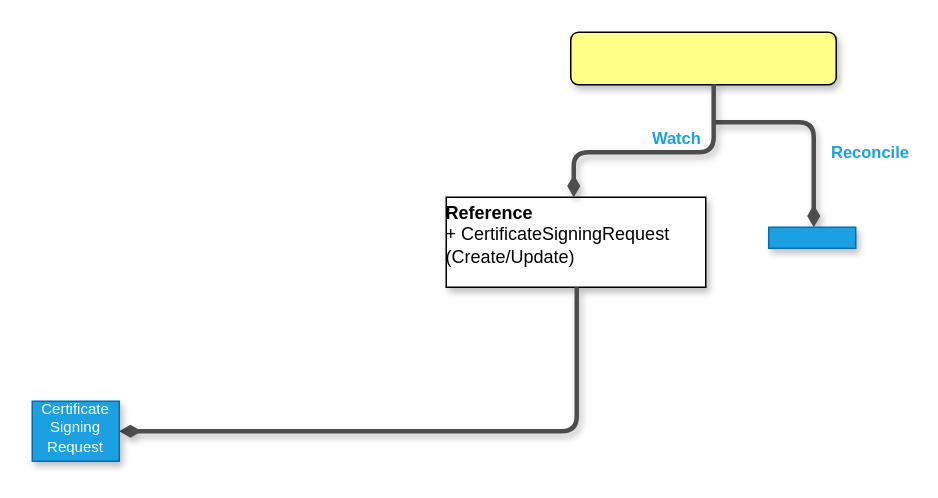
Image size: 938x498. Some labels were removed from this diagram. The centre of each missing label's shape, as x and y in pixels:
CertificateSigningRequest Controller: (x=704, y=60)
Secrets: (x=813, y=239)
